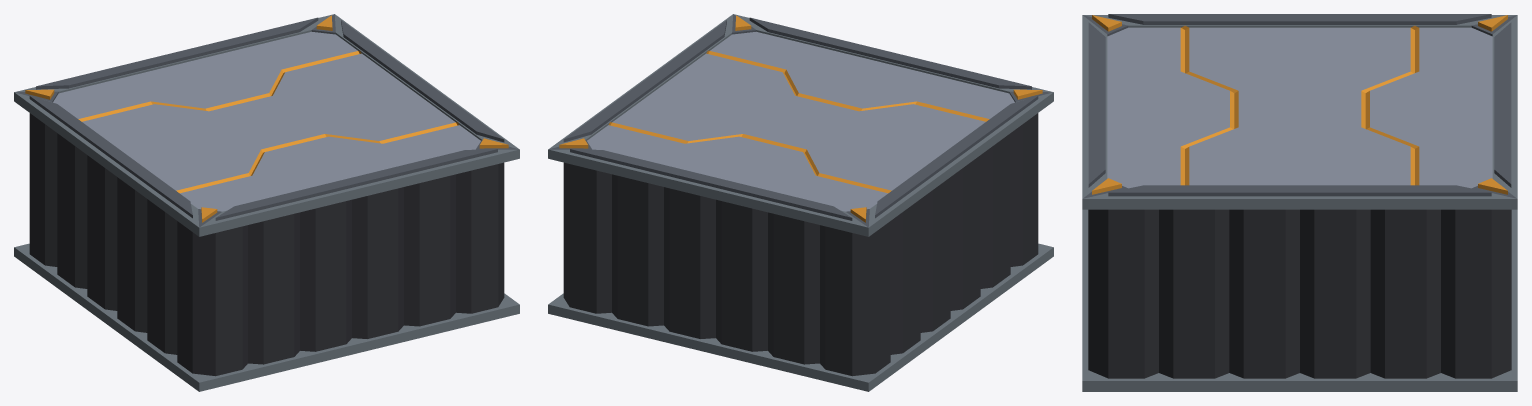
The model's file is SM_Platform_2.glb.
3 views of the same model, side by side, from view 1: azimuth 30°, elevation 25°; view 2: azimuth 150°, elevation 25°; view 3: azimuth 270°, elevation 25° (orthographic). The views are drawn at different scales.
Parts seen in each view (by area): view 1: SM_Platform_2; view 2: SM_Platform_2; view 3: SM_Platform_2.
Part boxes in pixels (x1,y1,x2,y2): SM_Platform_2: (14, 14, 519, 391); SM_Platform_2: (548, 14, 1053, 391); SM_Platform_2: (1082, 14, 1517, 391).
Size of the model in its own units: 4 by 2 by 4.
Materials: 1 (1 with a texture image).
